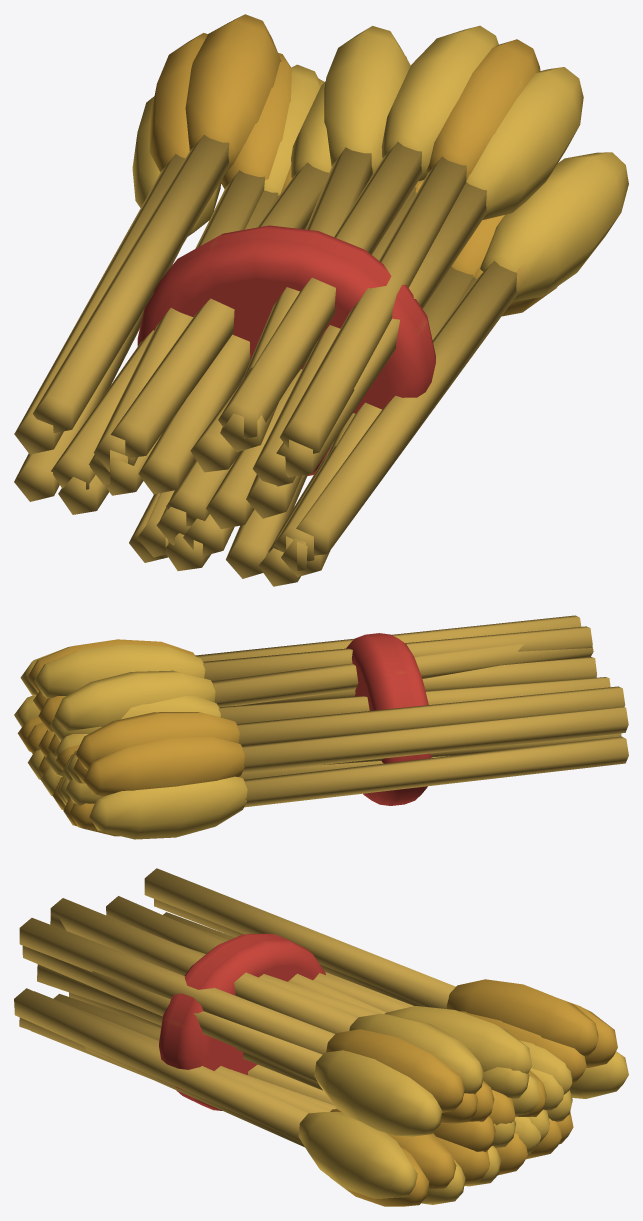
The model's file is item_wheat.glb.
3 views of the same model, one above another, from view 1: azimuth 30°, elevation 25°; view 2: azimuth 150°, elevation 25°; view 3: azimuth 270°, elevation 25° (orthographic). The views are drawn at different scales.
Parts seen in each view (by area): view 1: band; view 2: band; view 3: band.
Part boxes in pixels (x1,y1,x2,y2): band: (14, 14, 628, 586); band: (14, 615, 628, 839); band: (14, 868, 628, 1206).
Bounding box in the file's own units: 0.7972 × 0.2481 × 0.7932.
1 material, 1 textured.
